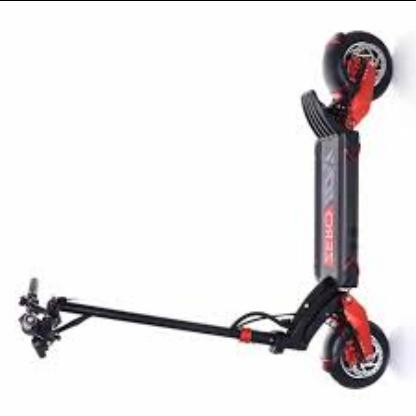bike: (9, 29, 393, 395), (16, 274, 391, 390)
